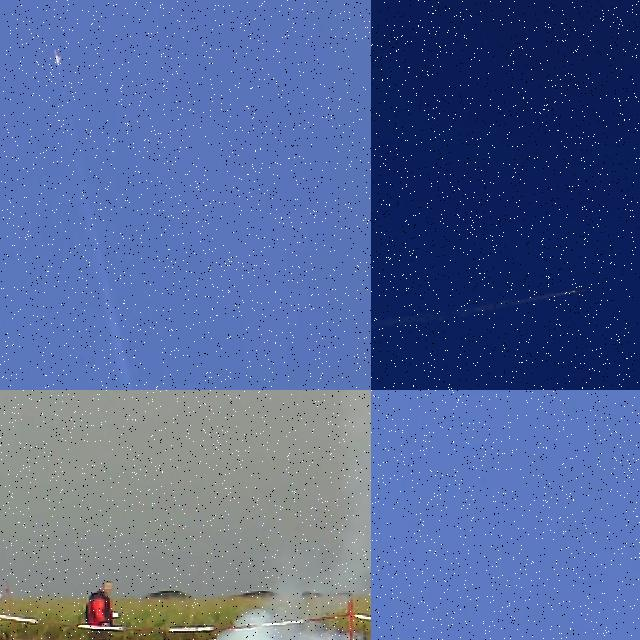Rocket: (54, 50, 61, 65), (573, 288, 588, 293)
